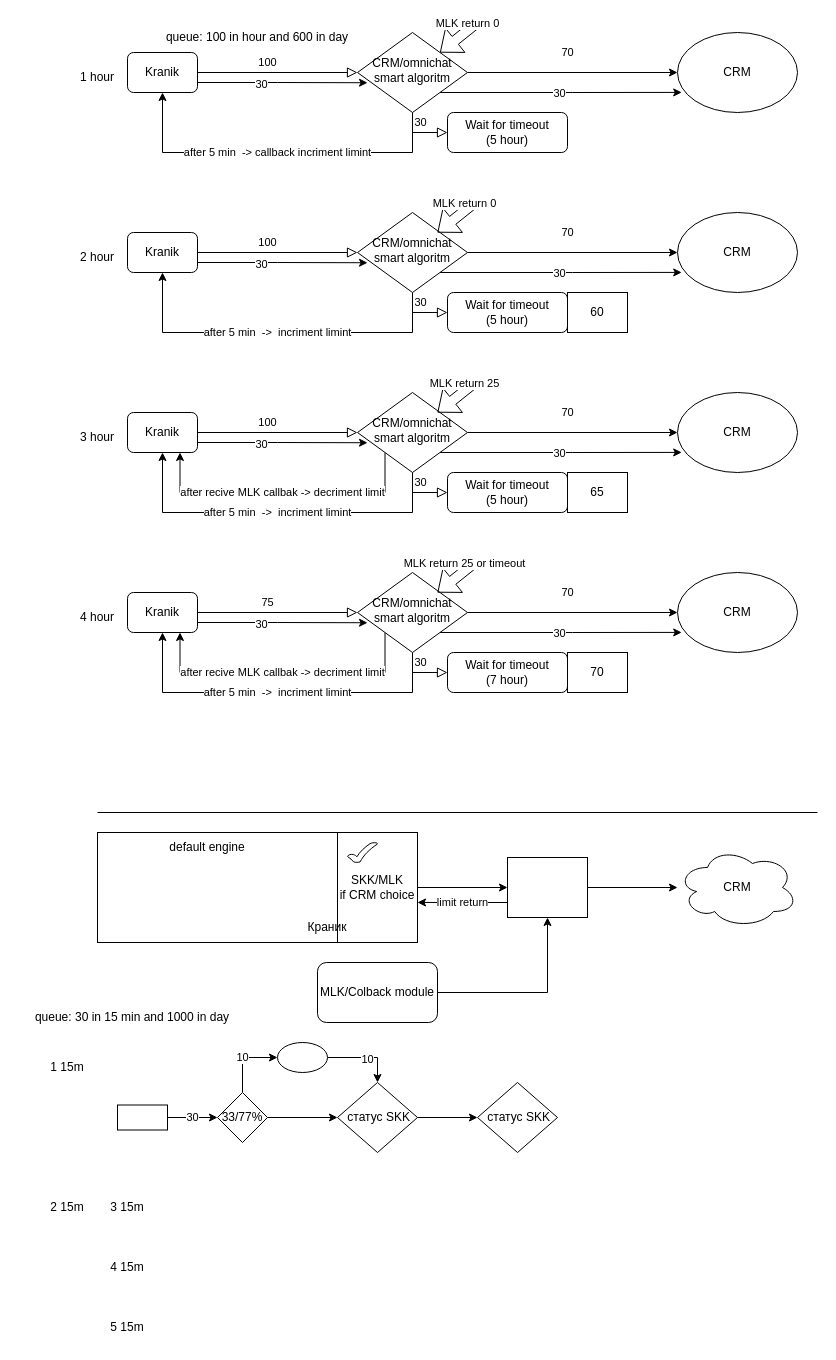
This 836x1360 diagram has some shape labels left out. The shapes that lost their labels are listed below. From the top down, each one's centre as x and y in pixels, then its label:
(547,887): CRM adapter
(302,1057): SKK
(142,1117): queue
